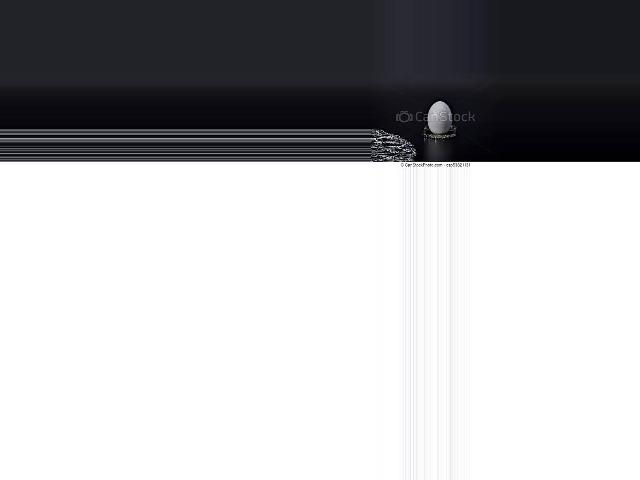egg: (427, 101, 452, 135)
